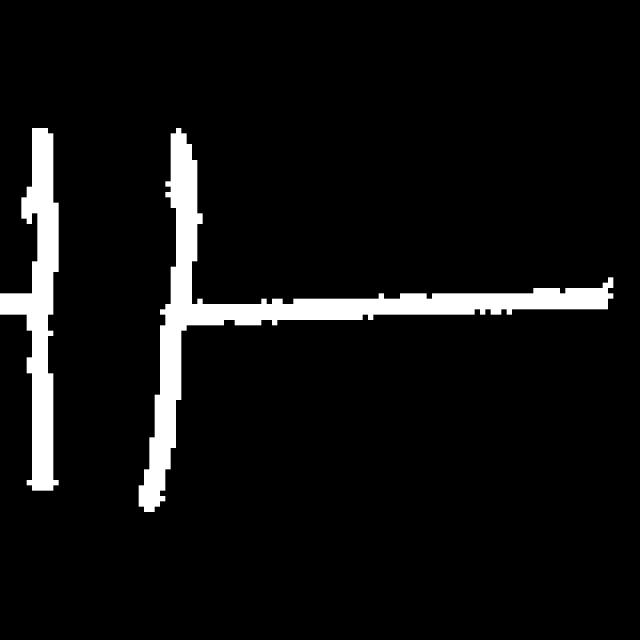capacitor: (22, 90, 218, 514)
